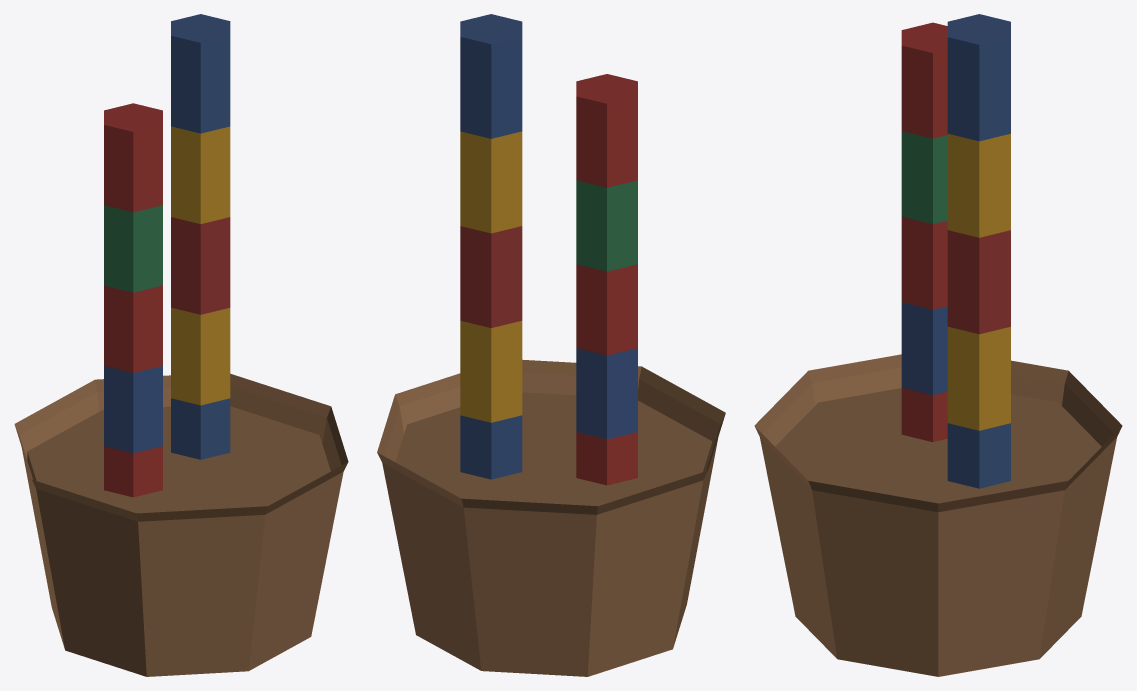
Rendered from kente-throw-roll-23.glb.
3 renders of one model, left to right at view 1: azimuth 30°, elevation 25°; view 2: azimuth 150°, elevation 25°; view 3: azimuth 270°, elevation 25°, orthographic. The views are drawn at different scales.
Parts seen in each view (by area): view 1: kente_throw_roll_23; view 2: kente_throw_roll_23; view 3: kente_throw_roll_23.
Boxes of the visible parts, <box> form: kente_throw_roll_23: <box>14,14,348,676</box>; kente_throw_roll_23: <box>377,14,725,676</box>; kente_throw_roll_23: <box>754,14,1122,676</box>.
Bounding box in the file's own units: 0.6052 × 1.1 × 0.6052.
